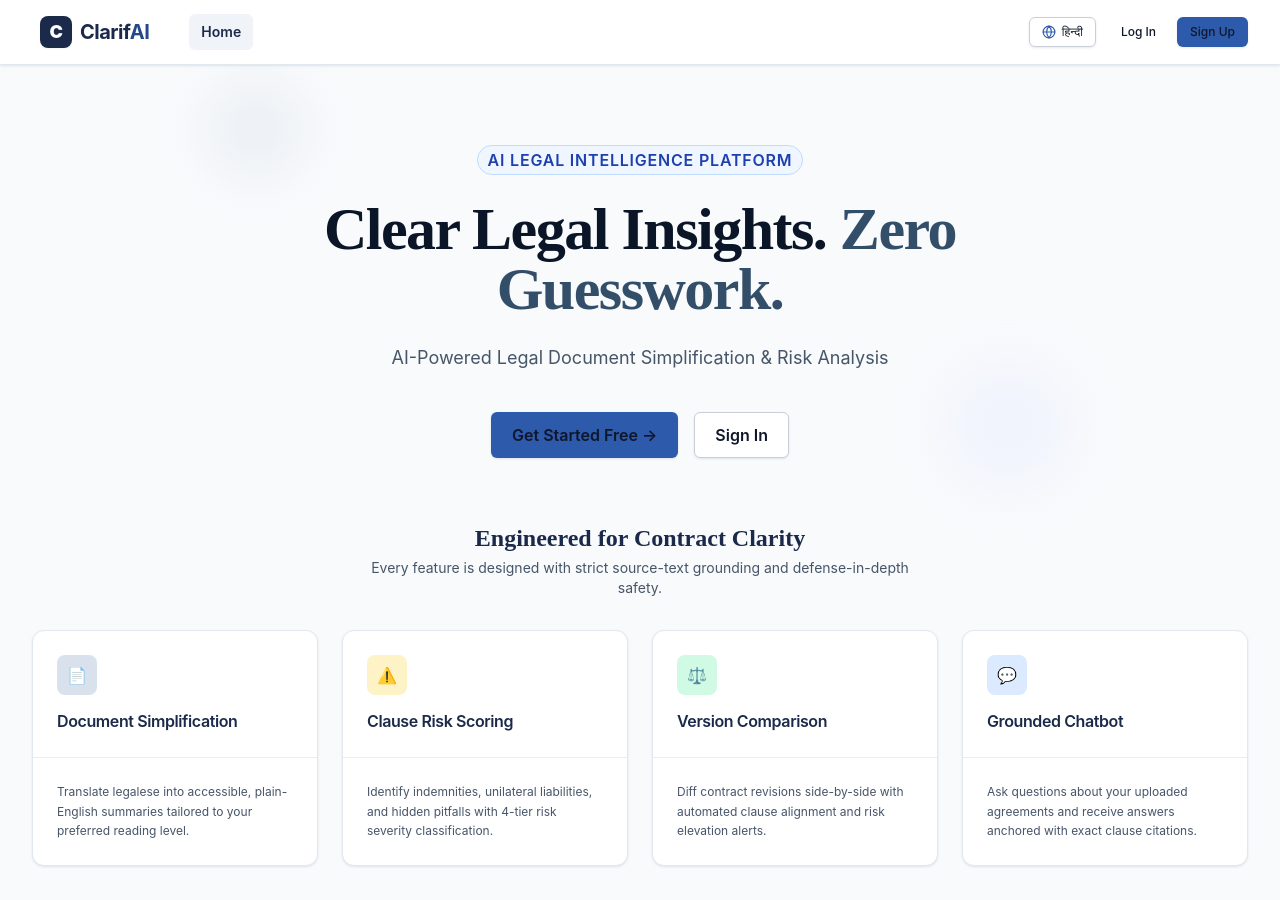
Test: ClarifAI Typed Routing & App Shell (PRD Section 5, Ch. 9.1, 9.6, 22, 24) › toggles language between English and Hindi using UILanguageSwitch
Click the button named "switch ui to hindi".
click(1062, 32)  # box top-left (1029, 17), bottom-right (1096, 47)
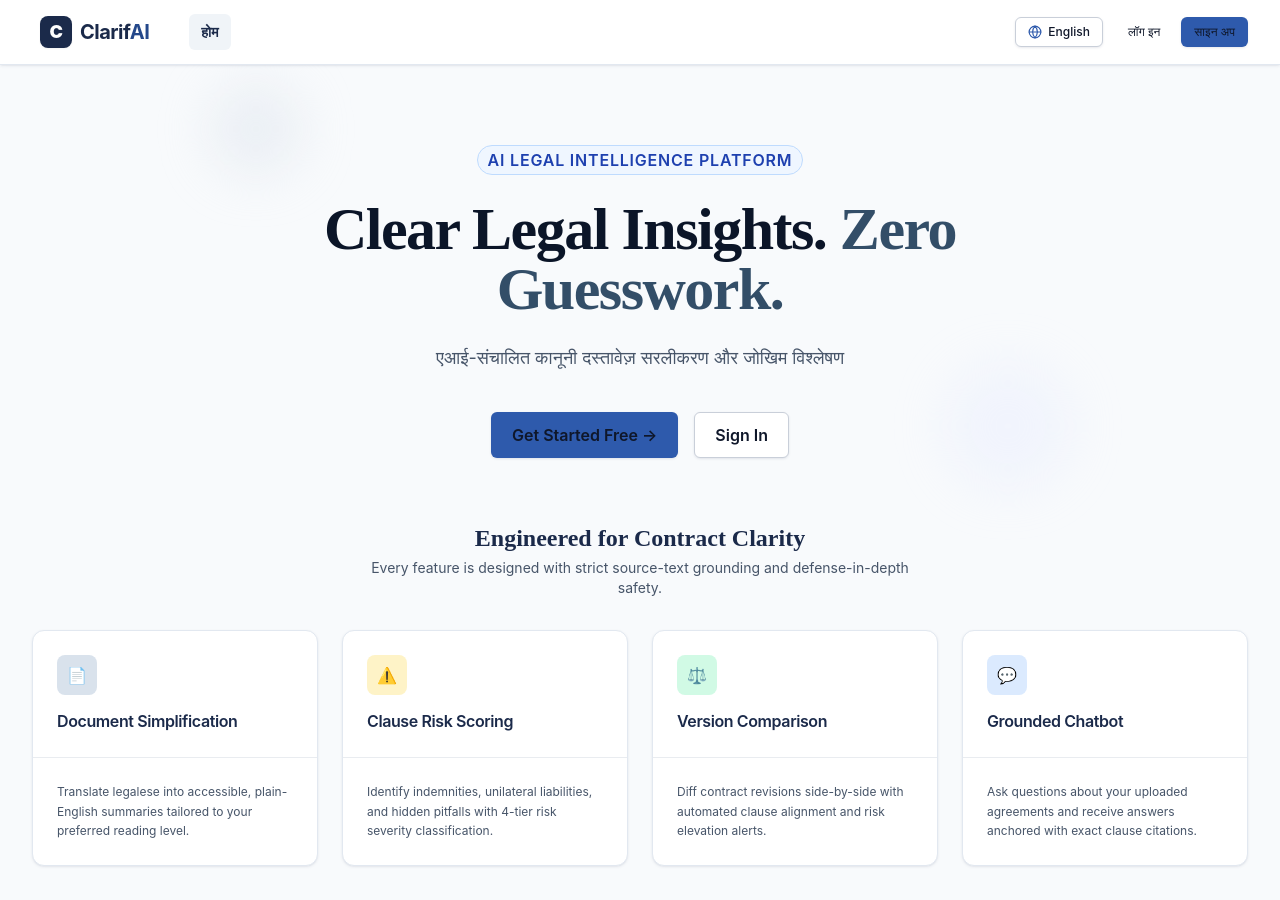
Check: the button with aria-label "switch ui to english" is shown, box top-left (1015, 17), bottom-right (1103, 47)
